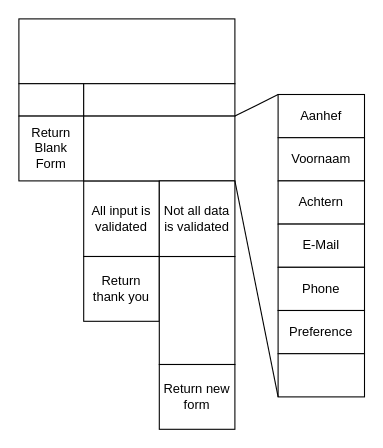
Image size: 383x448. Some labels were removed from this diagram. The centre of each missing label's shape, as x and y in pixels:
"Comment" belongs at (x=320, y=375).
"GET" belongs at (x=51, y=99).
"Make new form with blank fields; except for validated input" belongs at (x=196, y=309).
"POST" belongs at (x=159, y=99).
"Request from Client" belongs at (x=126, y=51).
"Validate Input for empty fields/invalied input" belongs at (x=159, y=148).
